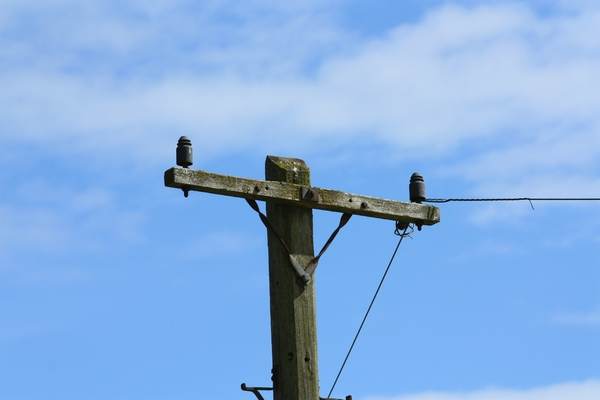utility_pole: (140, 120, 459, 366)
